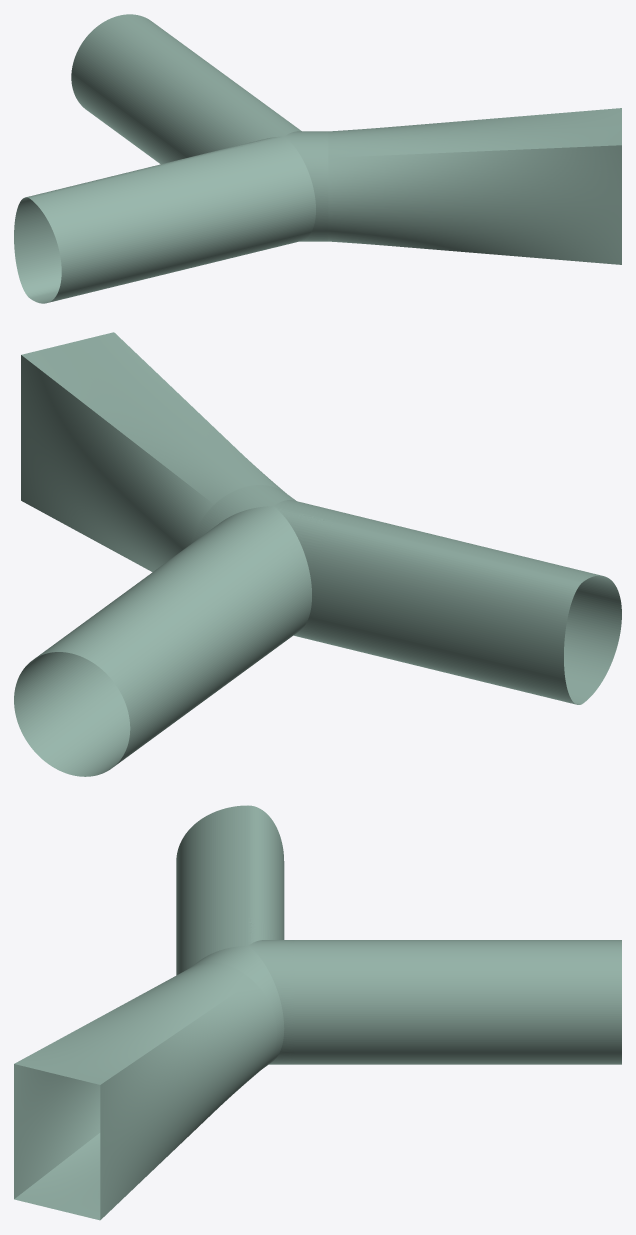
Rendered from tee-surface.glb.
3 views of the same model, one above another, from view 1: azimuth 30°, elevation 25°; view 2: azimuth 150°, elevation 25°; view 3: azimuth 270°, elevation 25° (orthographic). The views are drawn at different scales.
Parts seen in each view (by area): view 1: world; view 2: world; view 3: world.
Part boxes in pixels (x1,y1,x2,y2): world: (14,14,621,303); world: (14,332,621,776); world: (14,805,621,1220).
Bounding box in the file's own units: 82.84 × 18 × 73.2.
